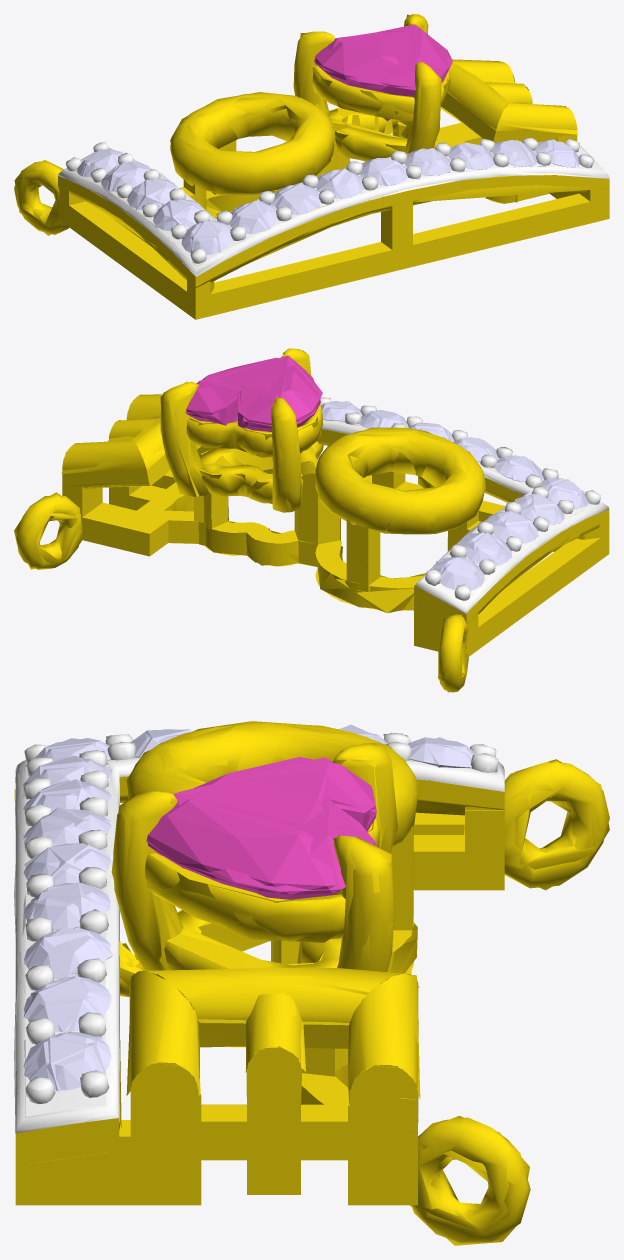
File: DCP-D000733365.glb
3 views of the same model, one above another, from view 1: azimuth 30°, elevation 25°; view 2: azimuth 150°, elevation 25°; view 3: azimuth 270°, elevation 25° (orthographic). The views are drawn at different scales.
Parts seen in each view (by area): view 1: highPolyMesh, lowPolyMesh; view 2: highPolyMesh, lowPolyMesh; view 3: highPolyMesh, lowPolyMesh.
Boxes of the visible parts, x1,y1,x2,y2 form: highPolyMesh: [14, 14, 609, 319]; lowPolyMesh: [14, 14, 609, 319]; highPolyMesh: [16, 348, 609, 692]; lowPolyMesh: [14, 348, 609, 692]; highPolyMesh: [15, 723, 609, 1242]; lowPolyMesh: [14, 721, 609, 1245].
Bounding box in the file's own units: 0.0151 × 0.00598 × 0.00975.
